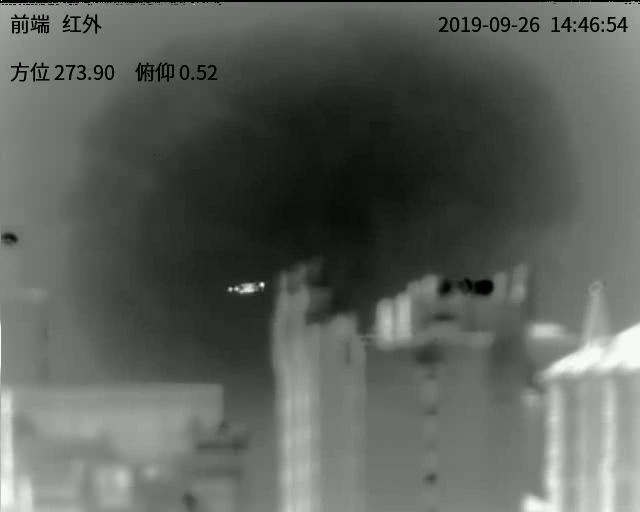DRONE: (226, 279, 267, 294)
